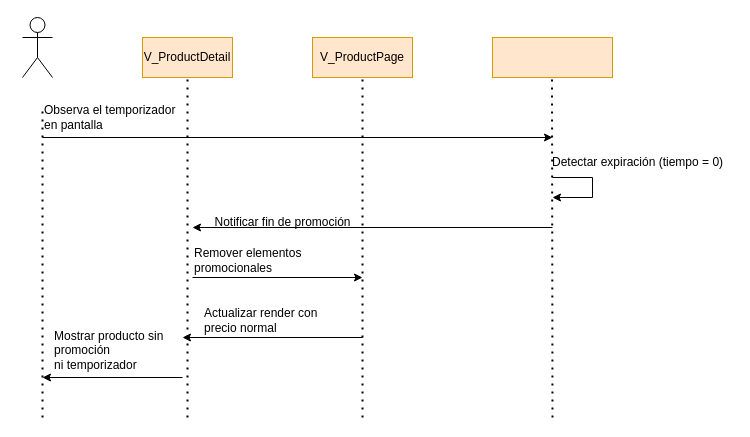
The diagram is 750 pixels wide and 437 high, and some of its shapes have lost their labels. The shapes that lost their labels are listed below. From the top down, each one's centre as x and y in pixels, then its label:
At (x=37, y=47): "Usuario".
At (x=552, y=57): "V_CountdownTimer".
